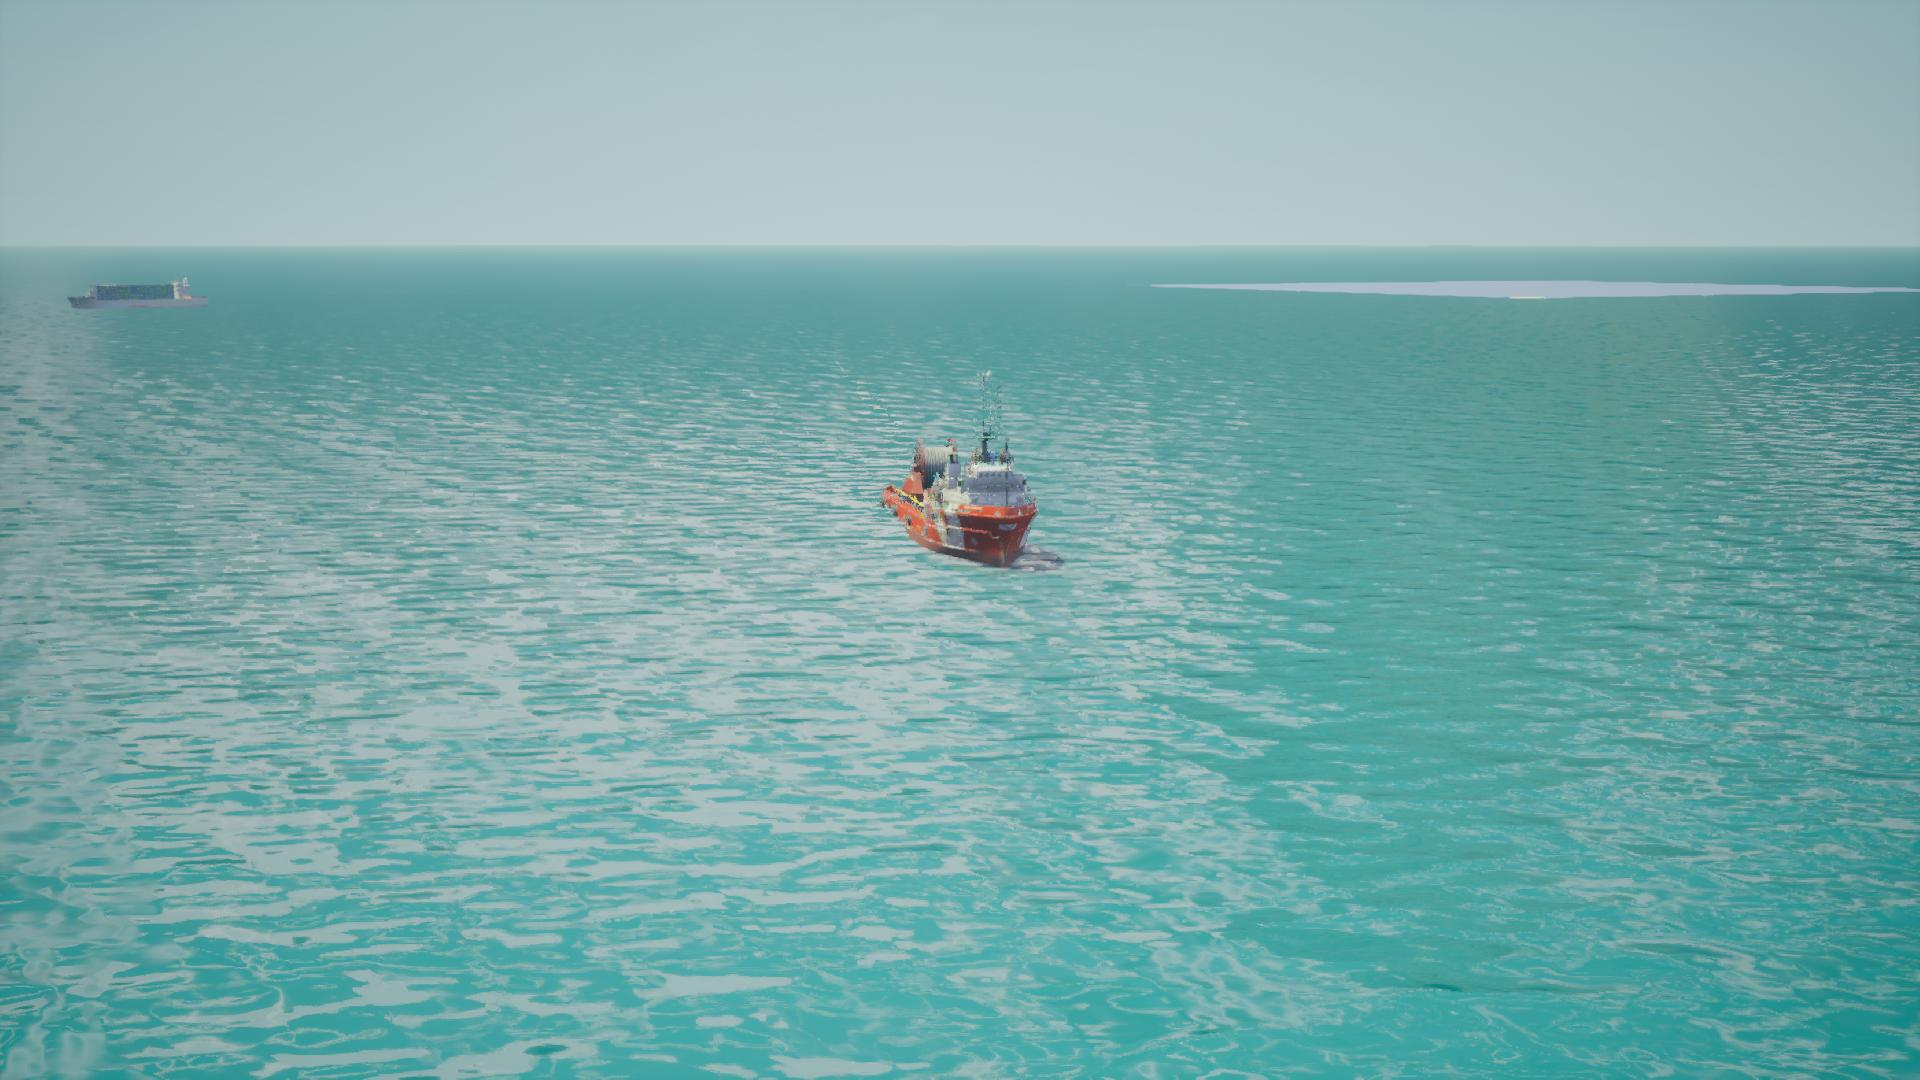Tug Boat: (882, 435, 1040, 570)
